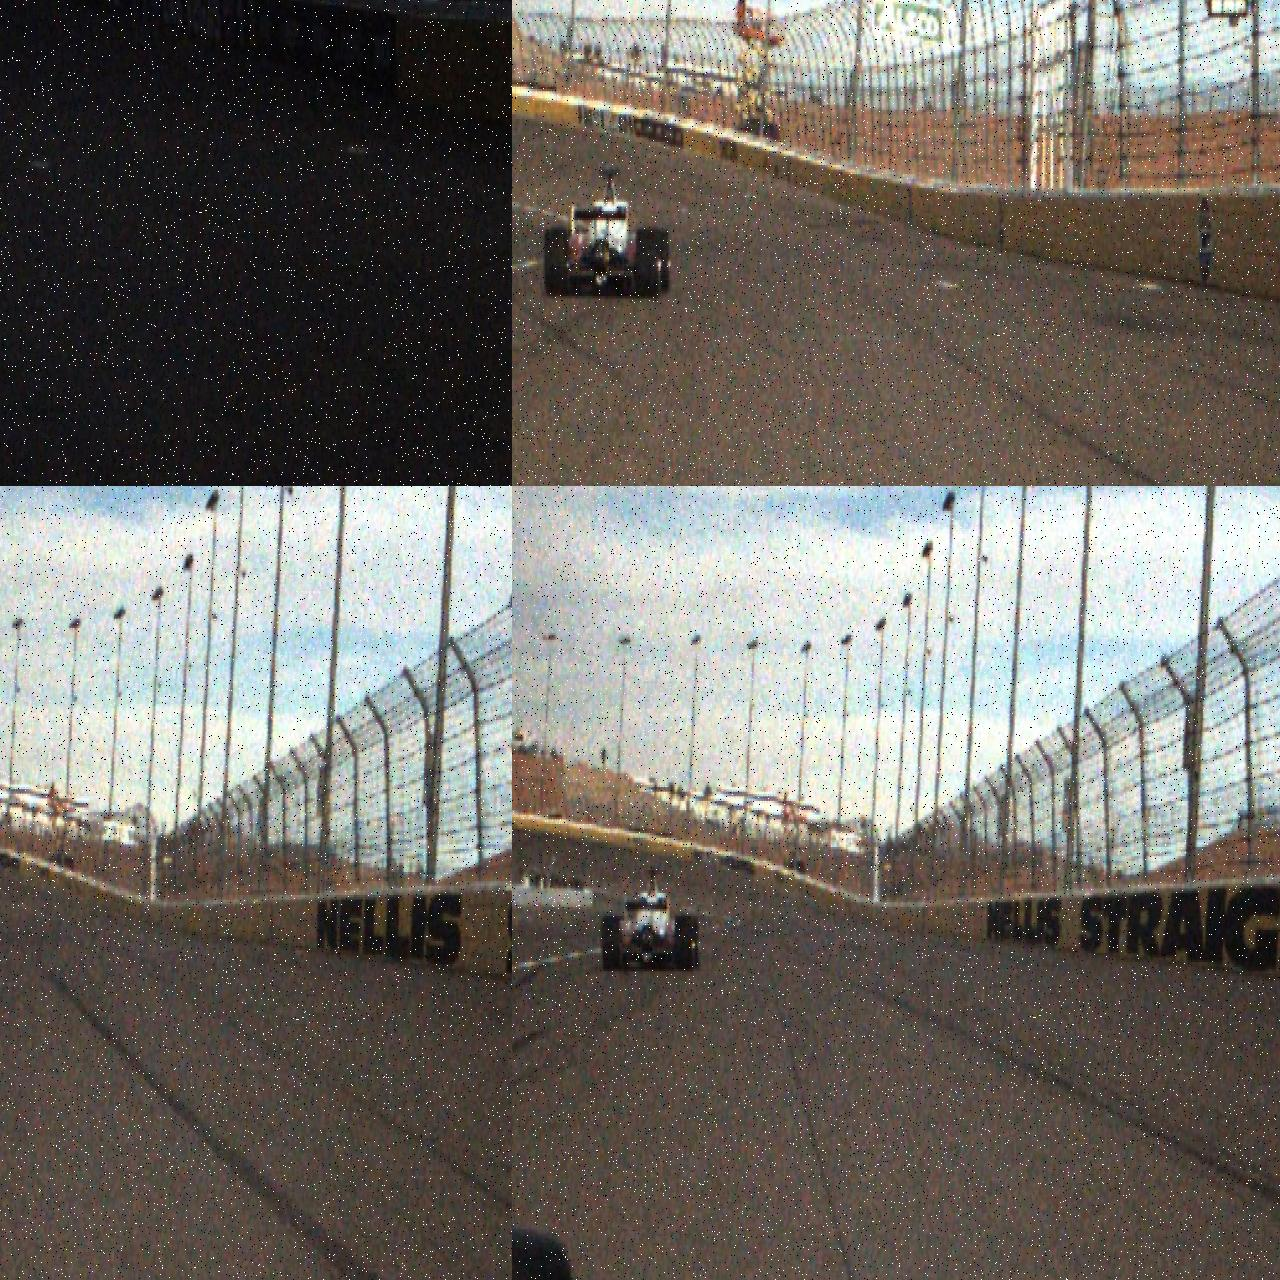AV: (545, 168, 671, 298), (601, 866, 701, 972)
Wheel: (636, 229, 660, 297), (546, 228, 568, 296), (602, 915, 622, 972), (653, 231, 671, 293), (676, 914, 694, 972)
